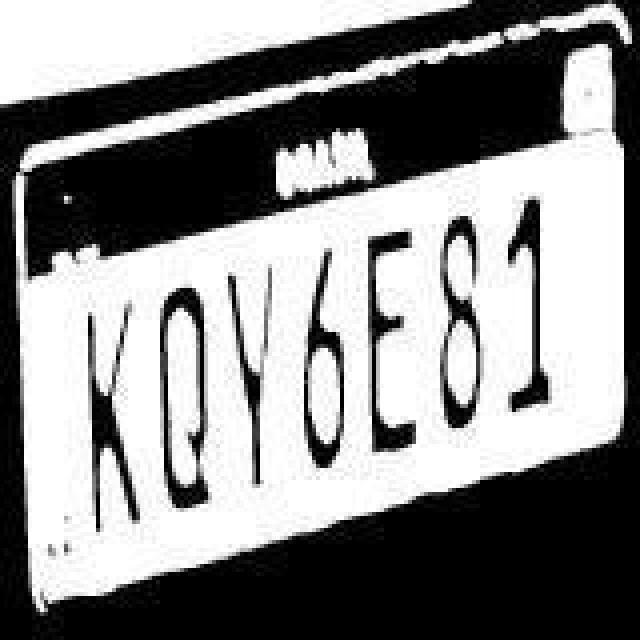1: (500, 196, 564, 444)
6: (288, 232, 352, 488)
8: (432, 208, 496, 456)
E: (358, 224, 426, 480)
K: (78, 294, 146, 546)
Q: (152, 266, 216, 534)
Y: (220, 252, 284, 516)
